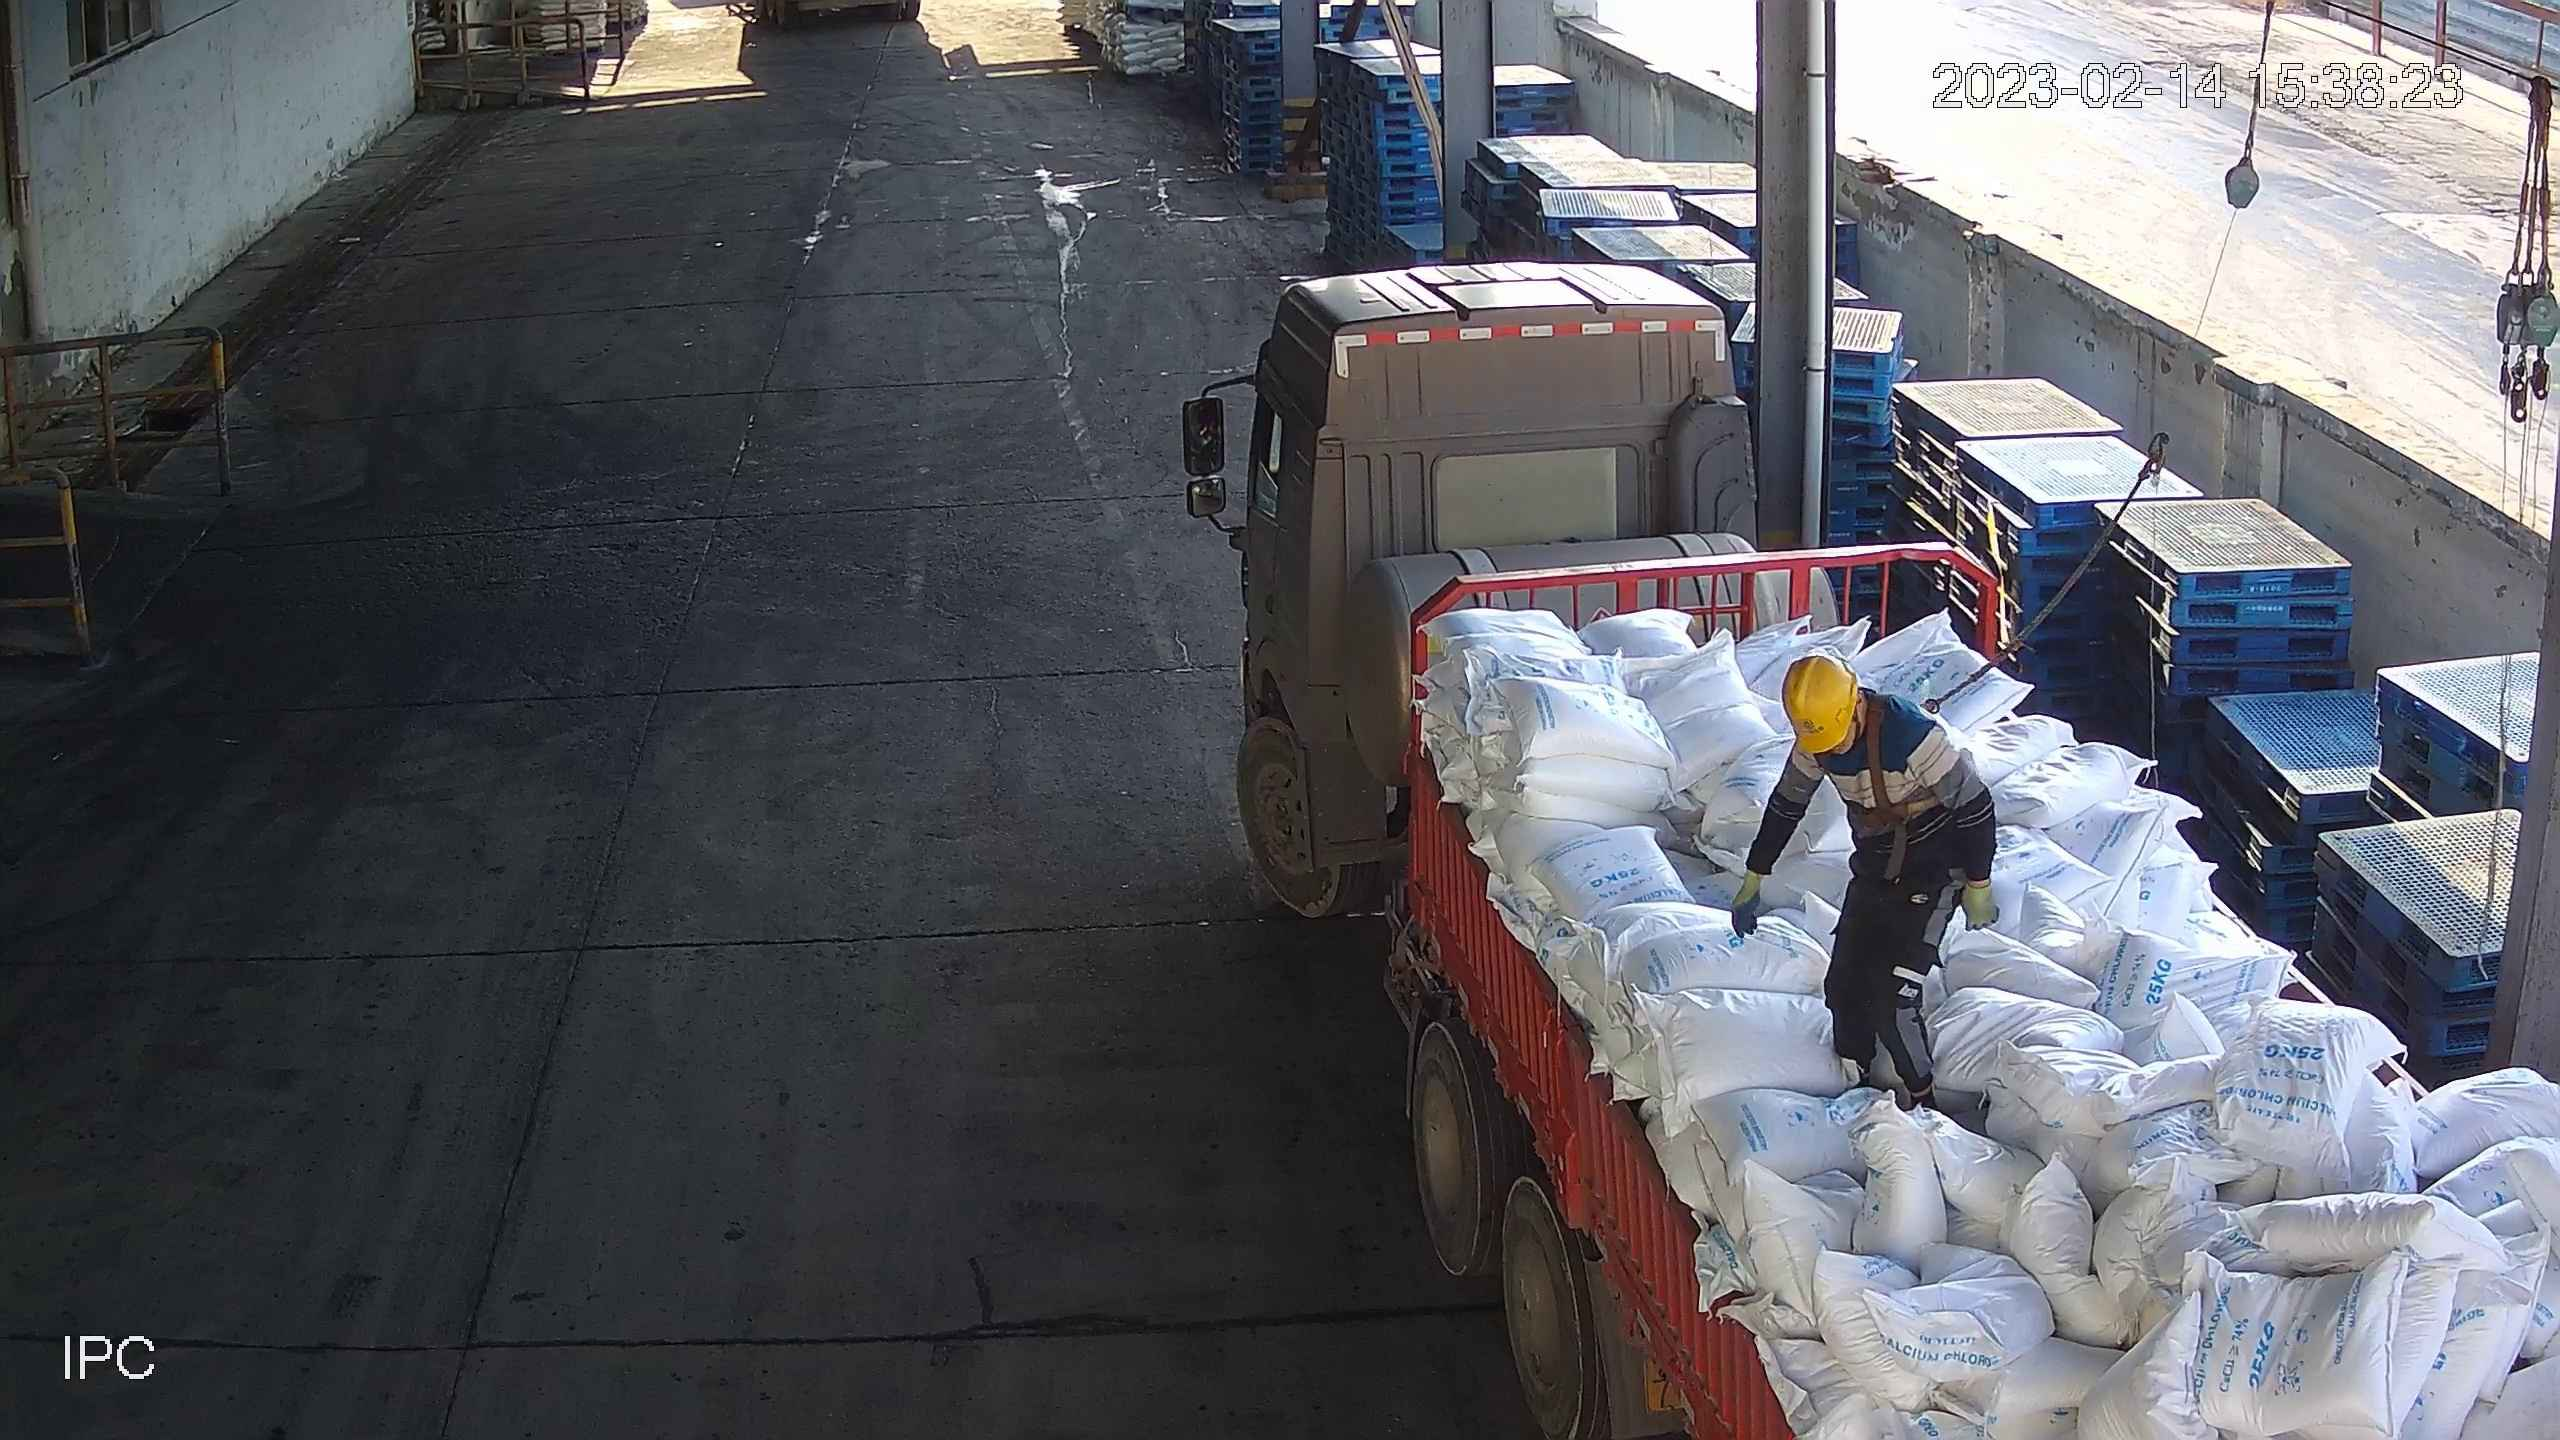belt: (1855, 691, 1920, 836)
head: (1765, 656, 1972, 780)
helmet: (1784, 651, 1877, 753)
people: (1731, 658, 1994, 1103)
truck: (1201, 271, 2560, 1440)
